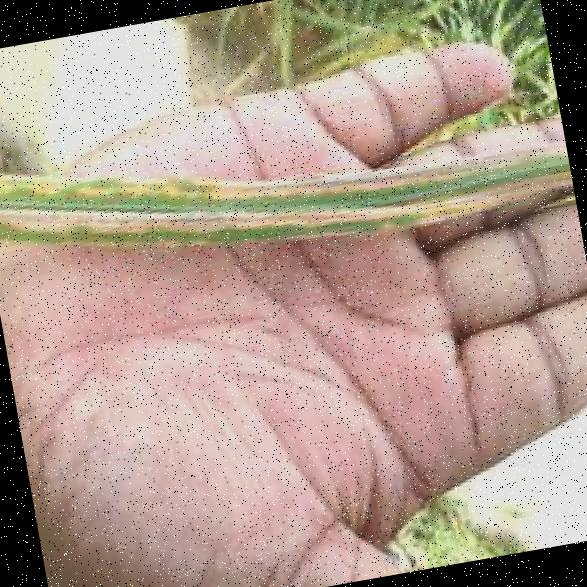Bacteria_Leaf_Blight: (0, 61, 566, 296)
